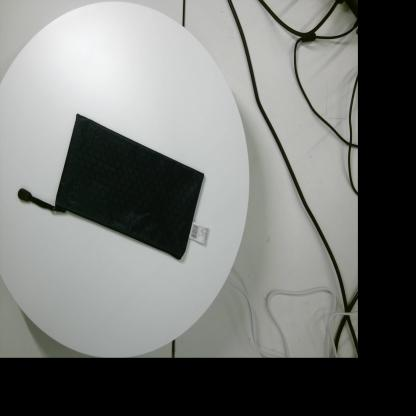Stationery: (18, 113, 209, 260)
